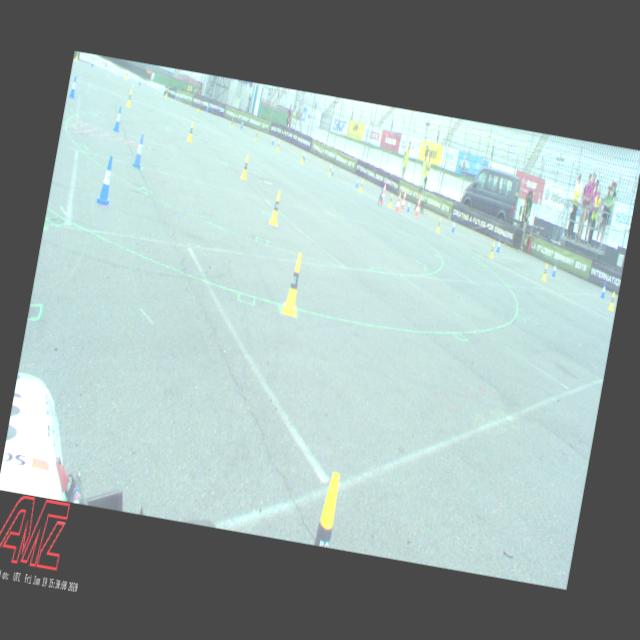blue_cone: (94, 154, 118, 204), (132, 134, 146, 168), (112, 105, 122, 132), (68, 75, 78, 97), (600, 281, 606, 297), (406, 198, 411, 210), (552, 262, 556, 276), (496, 239, 500, 252), (452, 219, 456, 231), (355, 176, 359, 187), (379, 186, 383, 197), (138, 76, 142, 85), (240, 118, 243, 128), (331, 164, 334, 174), (303, 151, 306, 160), (175, 91, 178, 100), (206, 103, 209, 112), (91, 58, 94, 66), (272, 135, 274, 144)
large_orange_cone: (414, 196, 422, 216), (395, 190, 402, 211), (381, 180, 386, 203), (401, 188, 406, 208)
yellow_cone: (314, 472, 342, 546), (281, 252, 306, 316), (269, 189, 282, 225), (240, 155, 250, 179), (608, 290, 616, 310), (187, 122, 194, 141), (542, 262, 548, 280), (126, 90, 132, 106), (489, 242, 495, 258), (436, 216, 441, 232), (358, 178, 362, 192), (328, 164, 332, 177), (388, 194, 392, 206), (276, 140, 280, 151), (300, 152, 304, 163), (75, 50, 78, 60), (255, 129, 258, 139), (230, 118, 233, 127), (125, 70, 128, 78), (166, 88, 168, 96), (198, 105, 200, 112)
